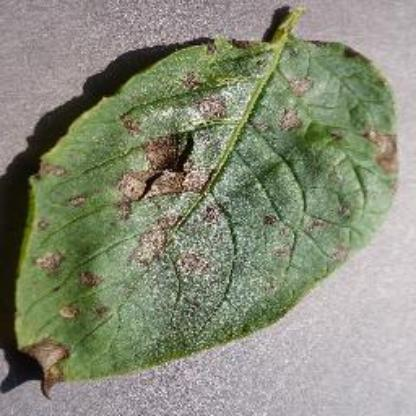Early-Blight: (13, 3, 398, 391)
